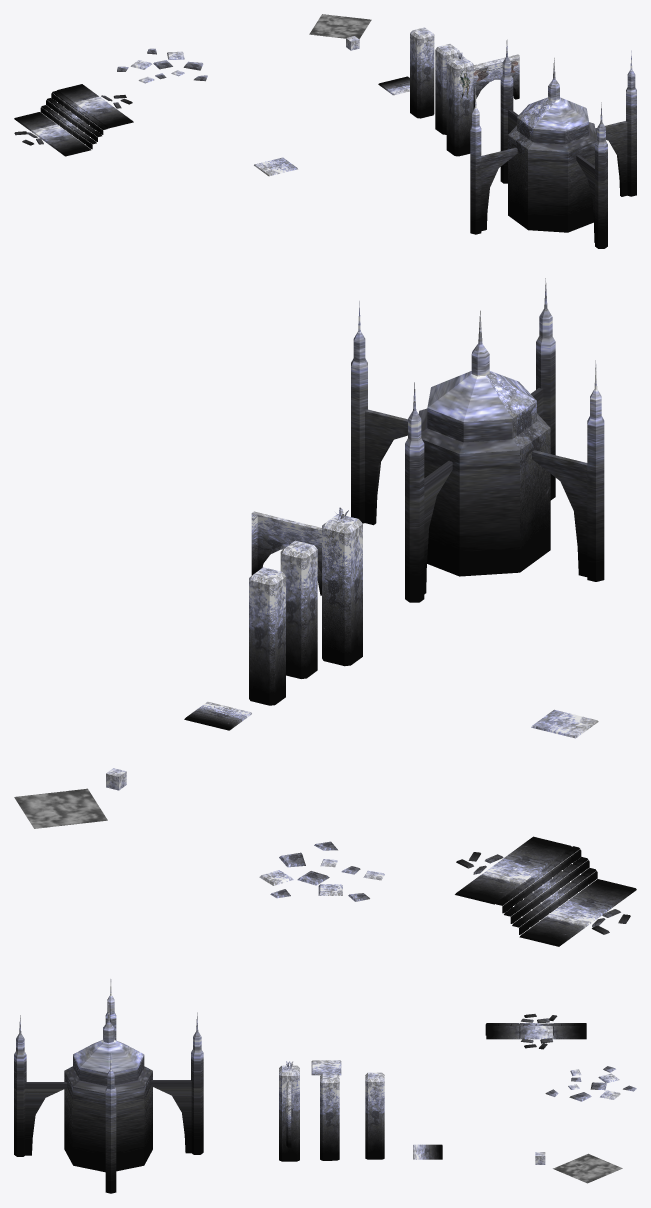
File: tiankong_001.FBX
3 views of the same model, one above another, from view 1: azimuth 30°, elevation 25°; view 2: azimuth 150°, elevation 25°; view 3: azimuth 270°, elevation 25° (orthographic). The views are drawn at different scales.
Parts seen in each view (by area): view 1: SMDImport10, SMDImport01, SMDImport02, SMDImport04, SMDImport03, SMDImport08, SMDImport09, SMDImport07, SMDImport06; view 2: SMDImport10, SMDImport01, SMDImport02, SMDImport04, SMDImport03, SMDImport08, SMDImport09, SMDImport06, SMDImport07; view 3: SMDImport10, SMDImport01, SMDImport02, SMDImport03, SMDImport04, SMDImport08, SMDImport09, SMDImport06, SMDImport07.
Part boxes in pixels (left/top/right/bottom): SMDImport10: left=470, top=39, right=636, bottom=248; SMDImport01: left=14, top=84, right=133, bottom=156; SMDImport02: left=446, top=52, right=519, bottom=156; SMDImport04: left=410, top=27, right=434, bottom=118; SMDImport03: left=435, top=44, right=459, bottom=134; SMDImport08: left=309, top=14, right=371, bottom=39; SMDImport09: left=117, top=48, right=207, bottom=83; SMDImport07: left=254, top=157, right=297, bottom=176; SMDImport06: left=378, top=76, right=409, bottom=95; SMDImport10: left=351, top=278, right=604, bottom=602; SMDImport01: left=455, top=836, right=636, bottom=946; SMDImport02: left=251, top=507, right=362, bottom=666; SMDImport04: left=249, top=567, right=285, bottom=705; SMDImport03: left=280, top=540, right=317, bottom=678; SMDImport08: left=14, top=788, right=107, bottom=828; SMDImport09: left=259, top=841, right=384, bottom=901; SMDImport06: left=184, top=701, right=251, bottom=730; SMDImport07: left=531, top=709, right=598, bottom=738; SMDImport10: left=14, top=979, right=203, bottom=1193; SMDImport01: left=485, top=1014, right=586, bottom=1049; SMDImport02: left=279, top=1061, right=299, bottom=1161; SMDImport03: left=320, top=1073, right=339, bottom=1160; SMDImport04: left=365, top=1072, right=384, bottom=1159; SMDImport08: left=553, top=1153, right=622, bottom=1183; SMDImport09: left=545, top=1066, right=636, bottom=1101; SMDImport06: left=413, top=1144, right=442, bottom=1159; SMDImport07: left=311, top=1060, right=341, bottom=1075.
Size of the model in its own units: 2301 by 941 by 3187.
